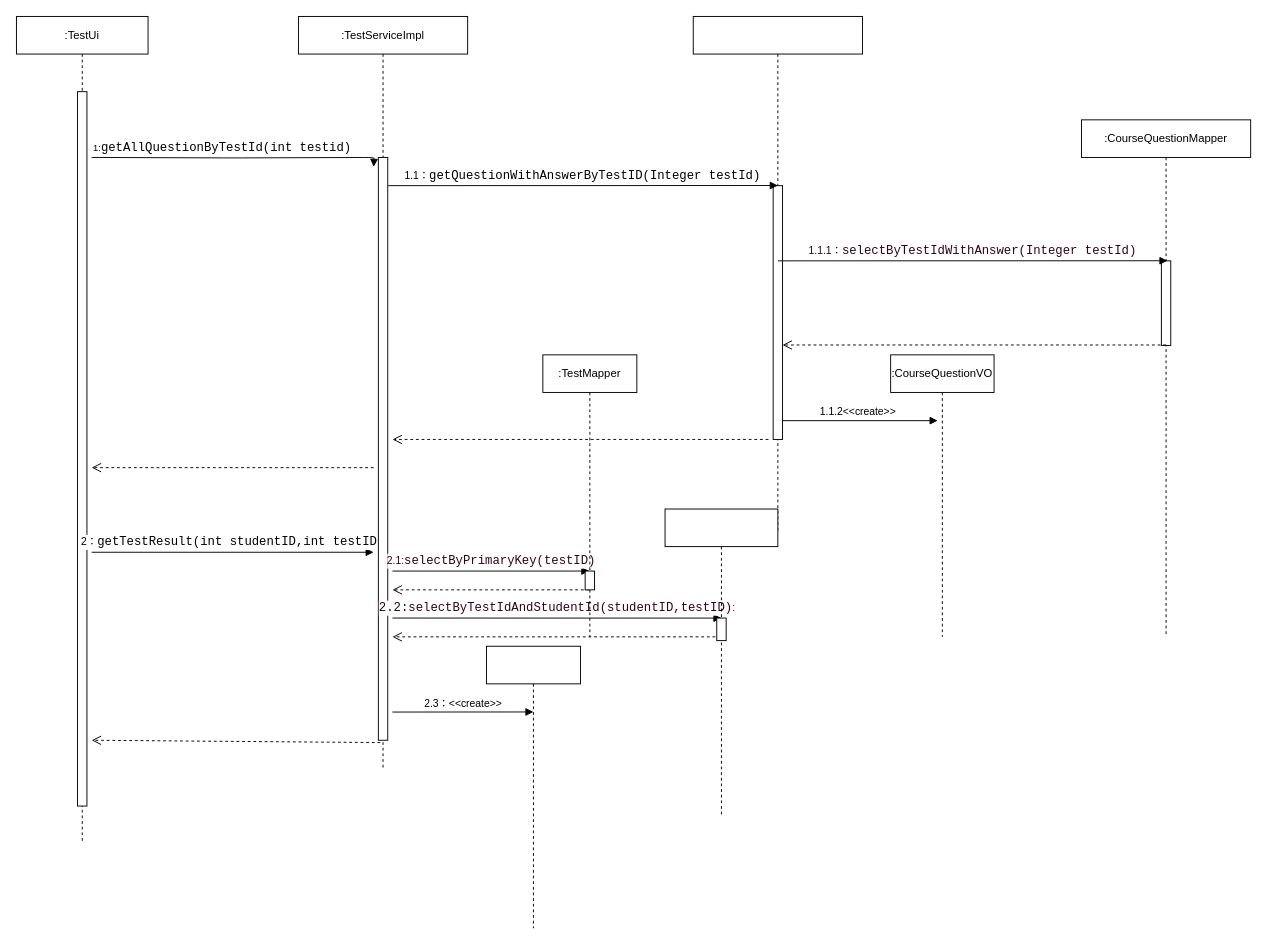
Image size: 1267x945. Some labels were removed from this diagram. The shapes that lost their labels are listed below. From the top down, each one's box as (x1, y1, x2, y2) in pixels, then its label:
(692, 16, 862, 533): :CourseQuestionServiceImpl
(664, 508, 778, 815): :TestResultMapper
(486, 645, 580, 928): :TestResultVO
